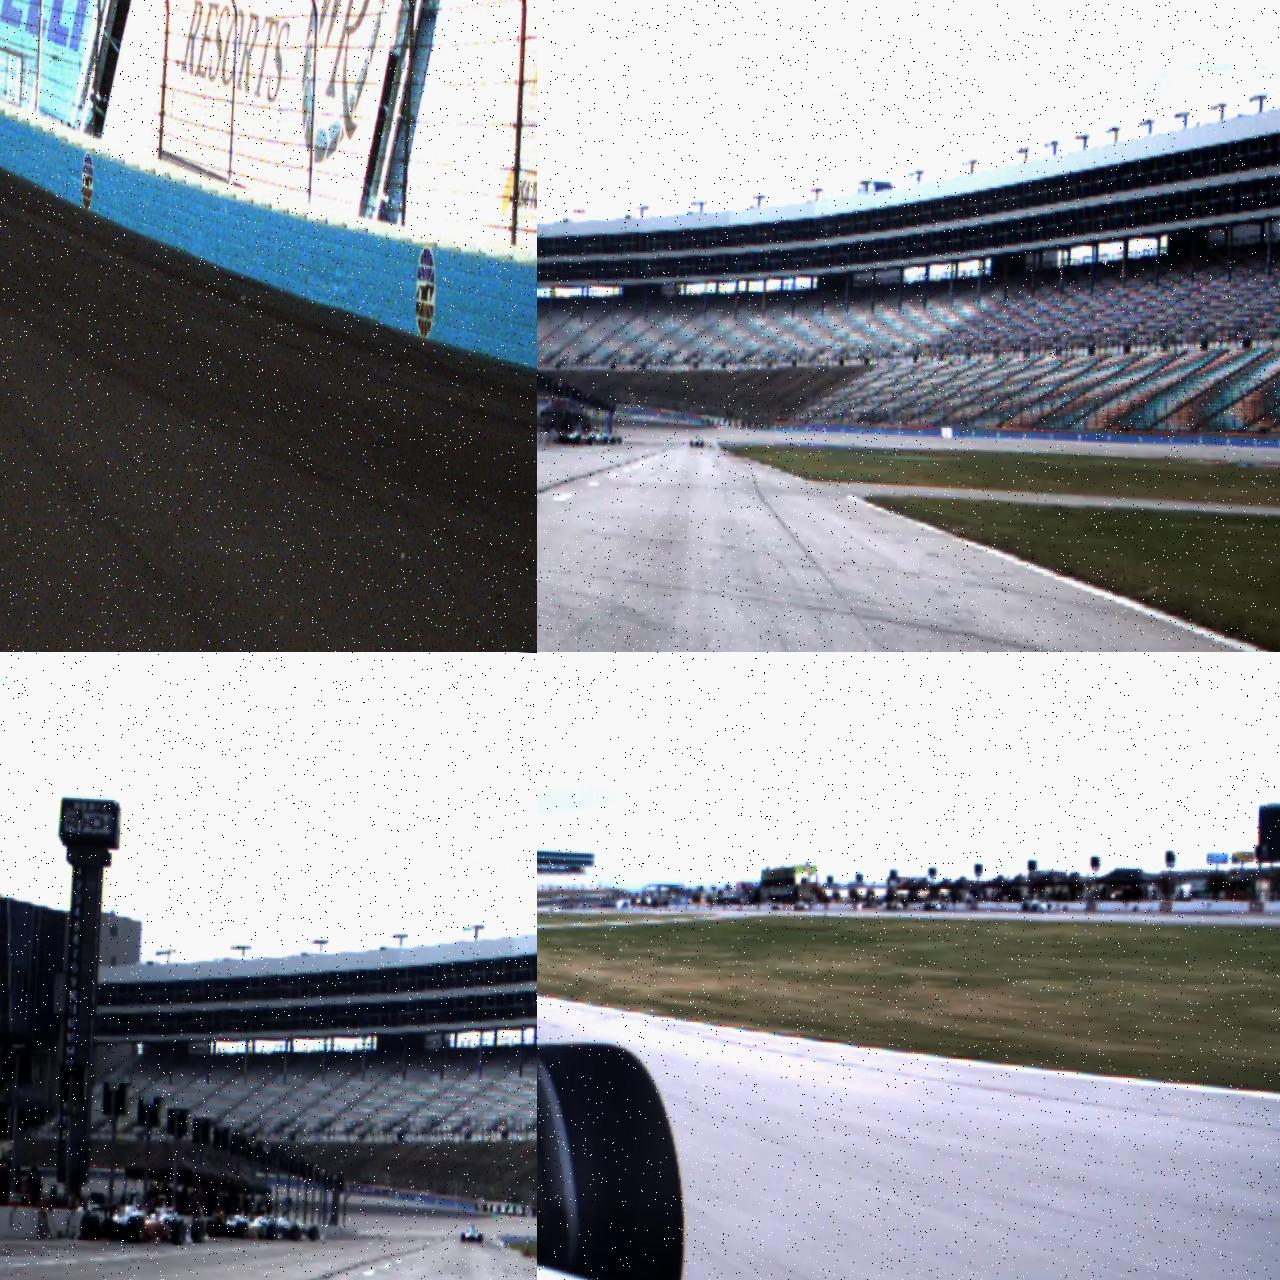AV: (80, 1189, 188, 1245), (459, 1224, 483, 1244), (689, 435, 704, 448)
Wheel: (537, 1035, 693, 1280), (80, 1213, 100, 1239), (127, 1214, 144, 1242), (170, 1218, 186, 1244), (191, 1219, 205, 1241), (236, 1219, 247, 1239), (266, 1223, 275, 1239), (291, 1224, 300, 1240), (308, 1224, 318, 1240), (459, 1231, 465, 1242), (477, 1233, 483, 1242)
